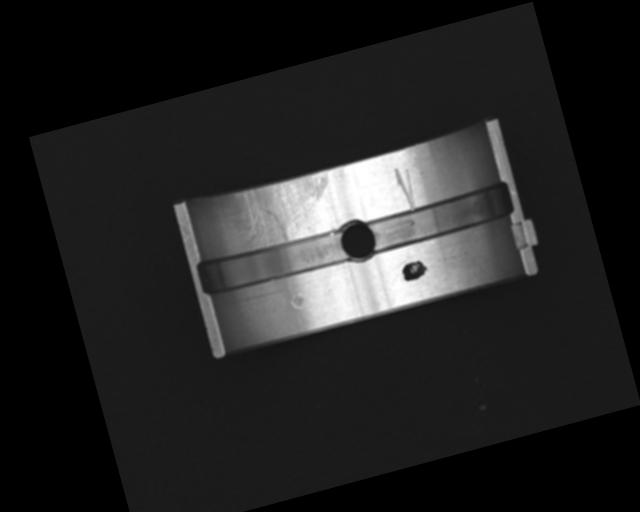blot: (400, 258, 431, 284)
bruise: (289, 291, 305, 310)
gap: (194, 223, 350, 300), (367, 182, 515, 253)
hole: (336, 216, 380, 266)
nick: (392, 165, 420, 214)
scratch: (230, 167, 342, 254)
